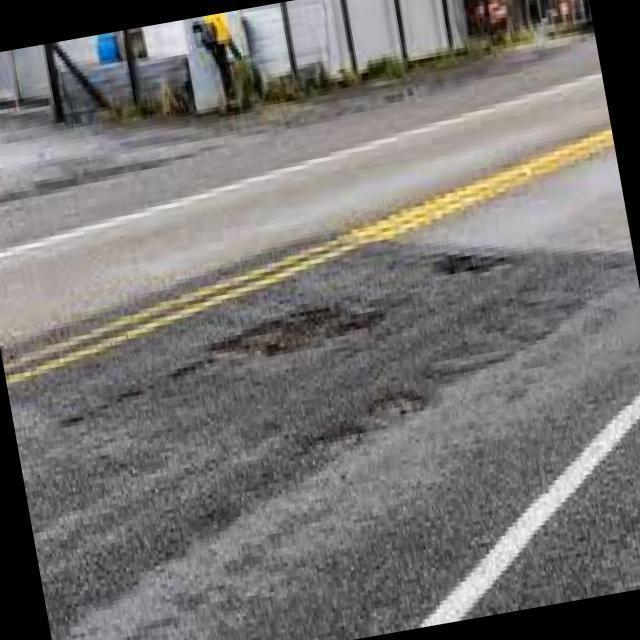pothole: (209, 302, 385, 356), (284, 385, 428, 451), (270, 306, 376, 351), (369, 384, 428, 416), (212, 323, 274, 351), (432, 254, 505, 273), (169, 358, 215, 378), (458, 350, 509, 367), (118, 391, 144, 402)
